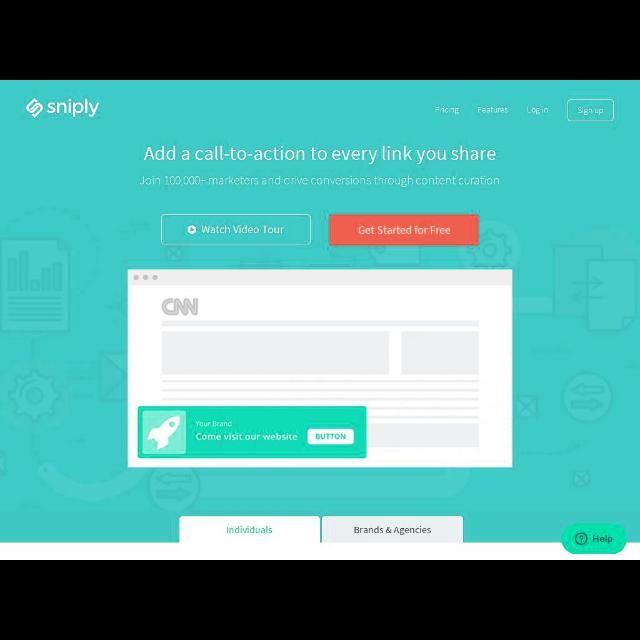button: (160, 214, 312, 246), (562, 524, 628, 554)
icon: (574, 532, 588, 546), (187, 226, 197, 234)
image: (143, 412, 187, 454), (26, 97, 100, 119)
multitab: (179, 516, 463, 542), (425, 100, 559, 122)
text: (143, 145, 497, 165), (140, 176, 500, 188), (196, 432, 298, 442), (354, 525, 431, 535), (202, 226, 284, 234), (227, 526, 273, 534), (195, 420, 233, 428), (478, 106, 508, 114), (592, 534, 614, 544), (527, 106, 549, 115), (435, 106, 459, 114)
textbutton: (329, 214, 479, 246), (568, 100, 614, 122), (308, 430, 354, 444)
